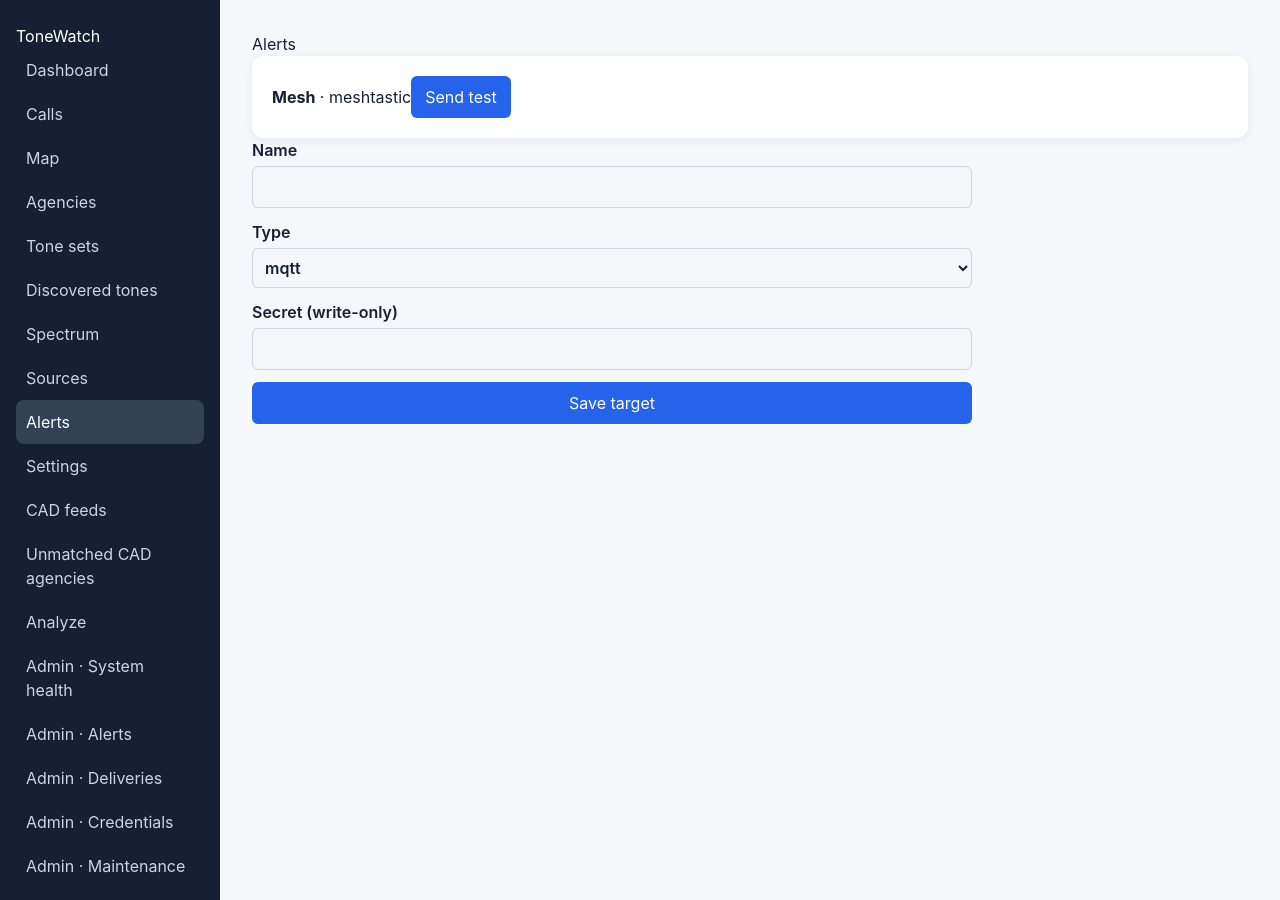
Test: M18b Meshtastic alert UI › sends a test to the selected alert target route
Click the button "Send test".
click(461, 97)  # box [411, 76, 511, 118]
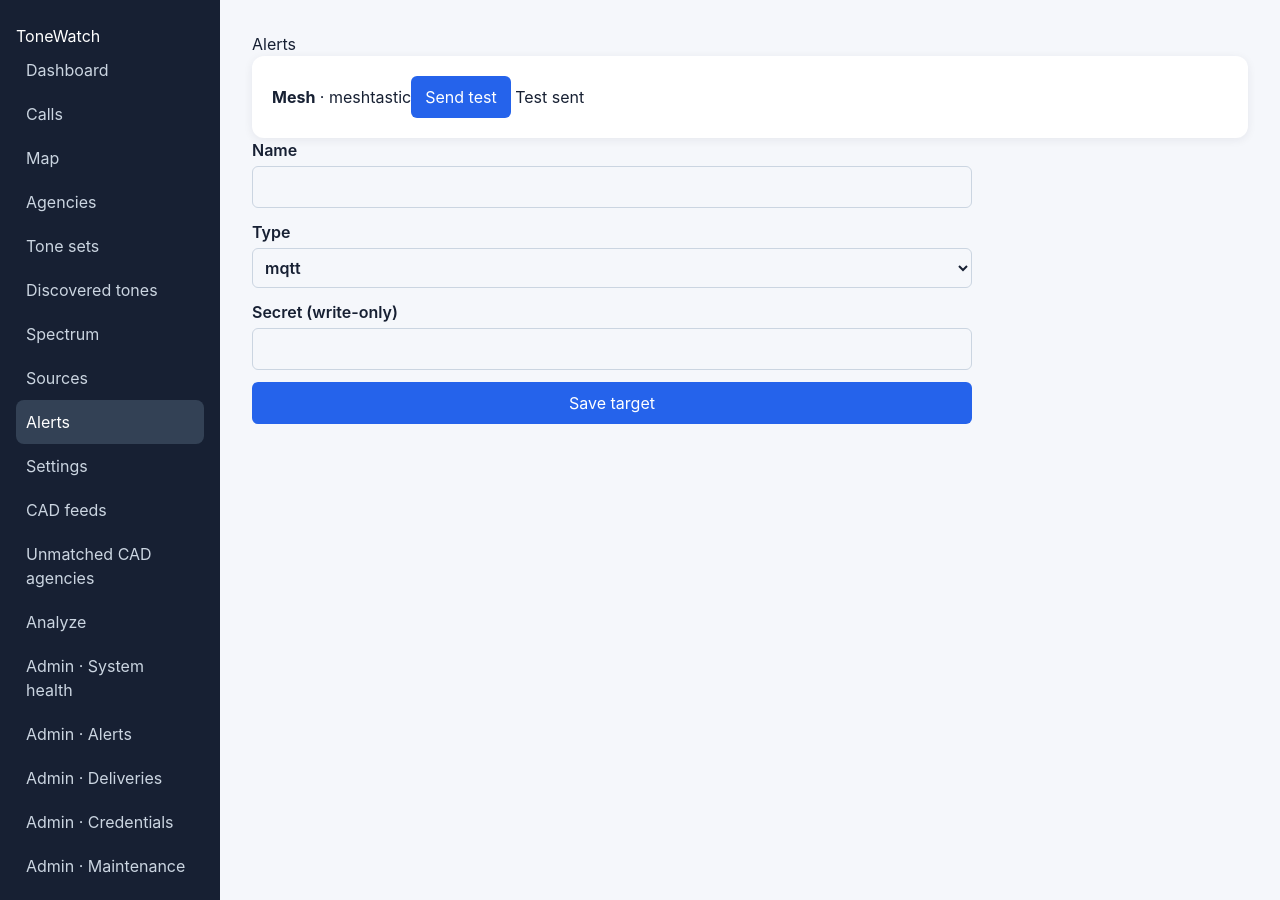
Now the text "Test sent" is shown, box [511, 87, 584, 107]
